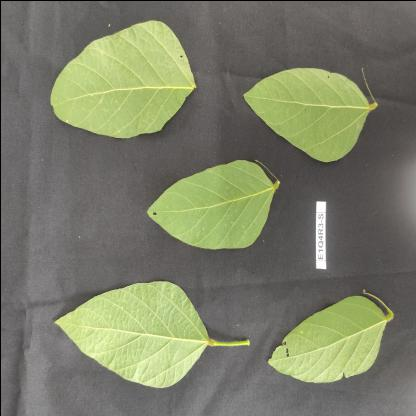label: (312, 195, 332, 268)
leaflets: (40, 268, 216, 390), (52, 16, 204, 139), (264, 268, 402, 402), (244, 40, 382, 169), (139, 154, 284, 258)
